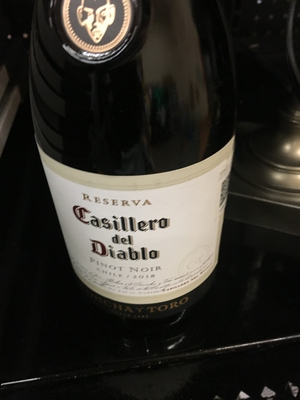casillero del diablo pinot noir: (21, 3, 241, 357)
